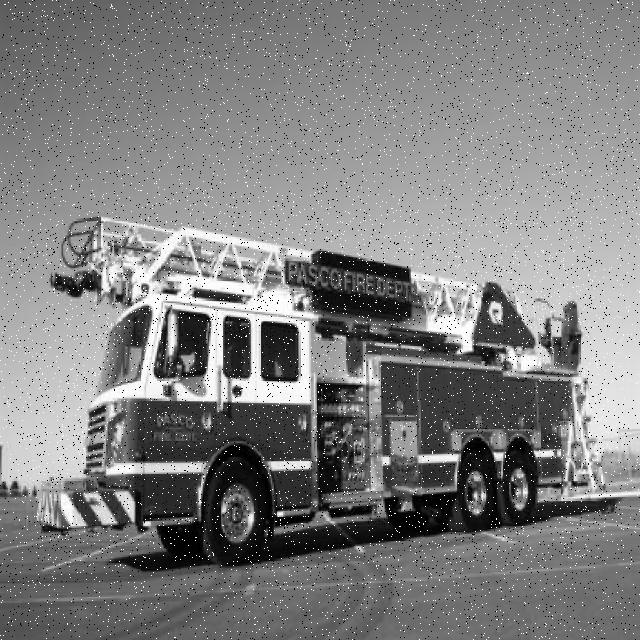Fire Truck: (36, 216, 608, 569)
